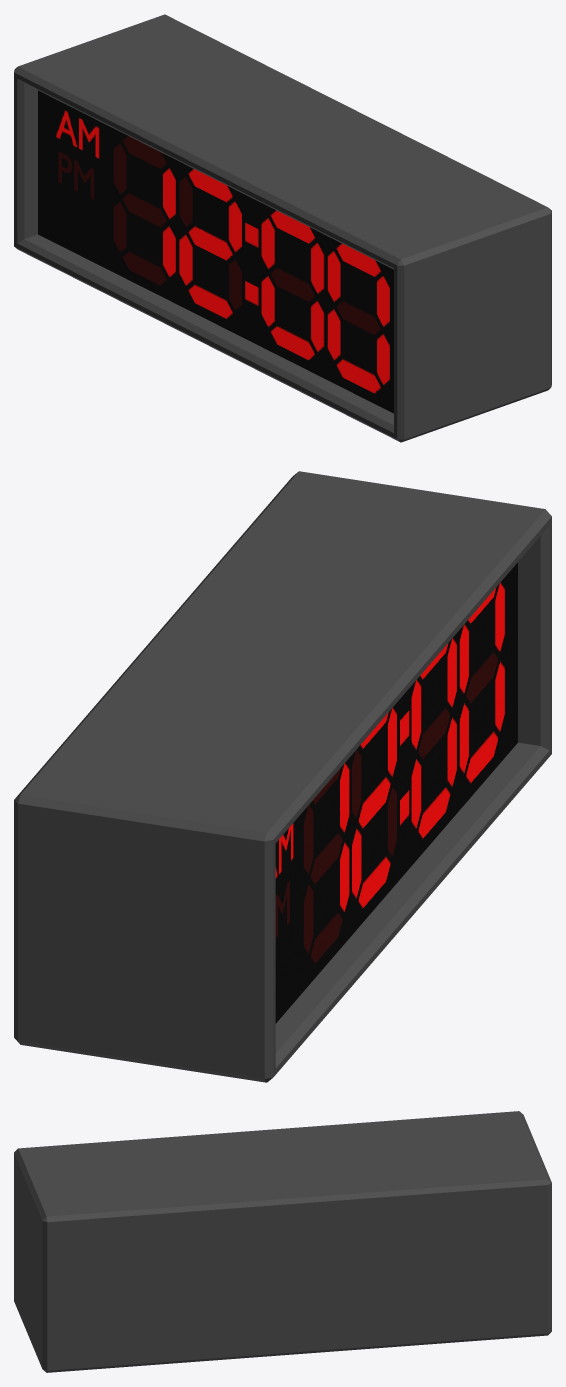
Rendered from FNaC Semi-Accurate Map By DiscoHead.glb.
The picture shows the model from 3 angles, top to bottom: view 1: azimuth 30°, elevation 25°; view 2: azimuth 150°, elevation 25°; view 3: azimuth 270°, elevation 25°; orthographic projection. The views are drawn at different scales.
Parts seen in each view (by area): view 1: MapBase/FlatMesh.002; view 2: MapBase/FlatMesh.002; view 3: MapBase/FlatMesh.002.
Boxes of the visible parts, x1=… form: MapBase/FlatMesh.002: x1=14, y1=14, x2=551, y2=442; MapBase/FlatMesh.002: x1=14, y1=471, x2=551, y2=1082; MapBase/FlatMesh.002: x1=14, y1=1111, x2=551, y2=1372.
Size of the model in its own units: 4.79 by 3.2 by 9.98.
Materials: 3 (1 with a texture image).
